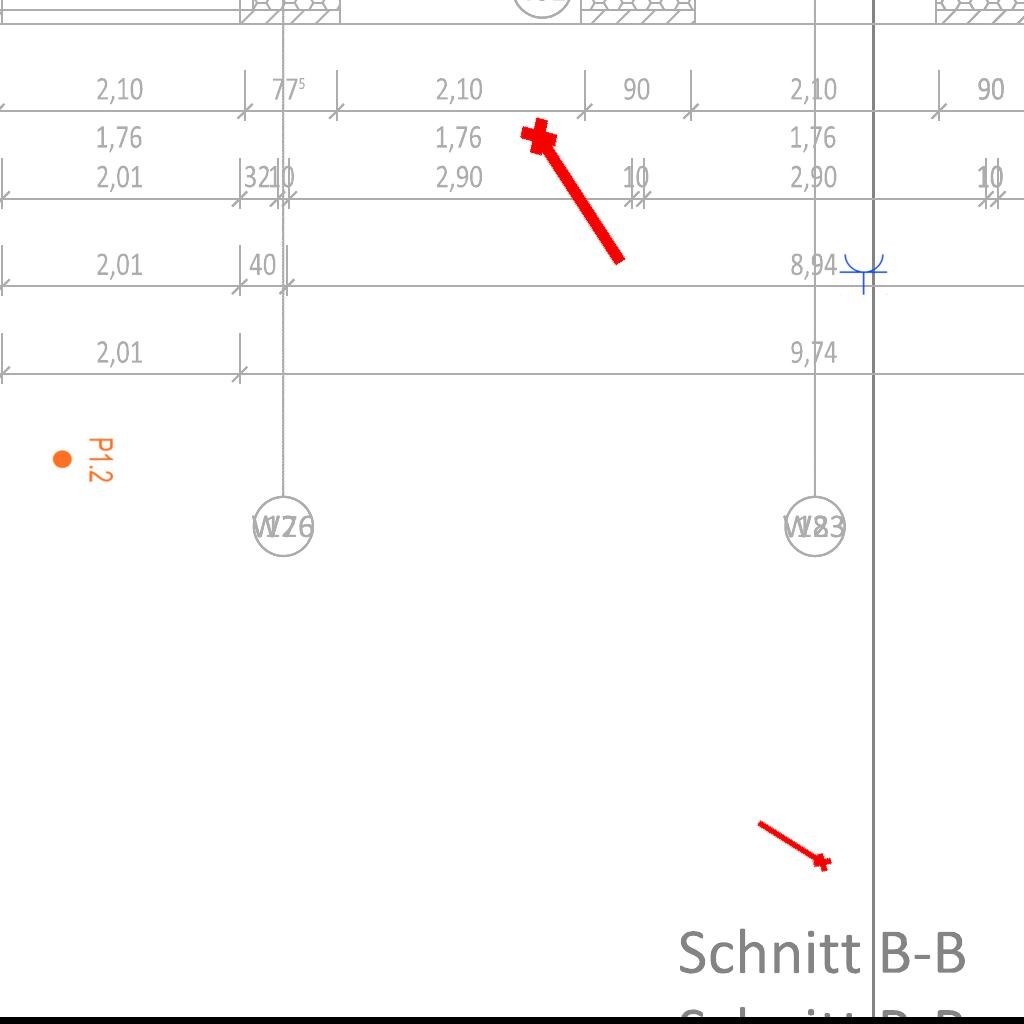ASR_Ansaugoeffnung: (510, 105, 646, 279), (749, 812, 837, 879)
Downlight_LED_Einbauleuchten_Flur: (51, 437, 115, 483)
Schukosteckdose_einfach: (839, 252, 889, 295)
